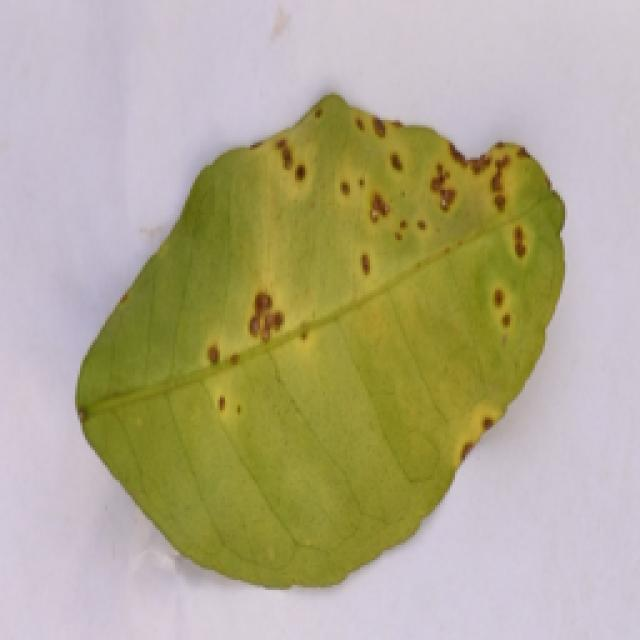canker: (106, 99, 553, 504)
